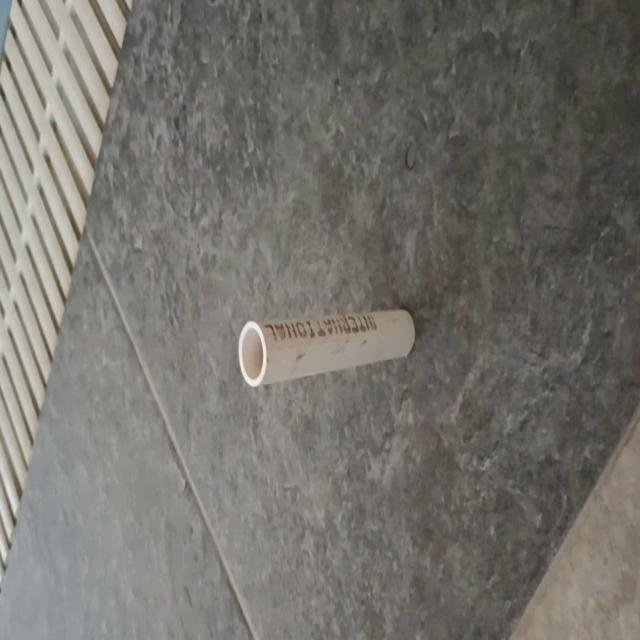Cube: (237, 306, 415, 388)
